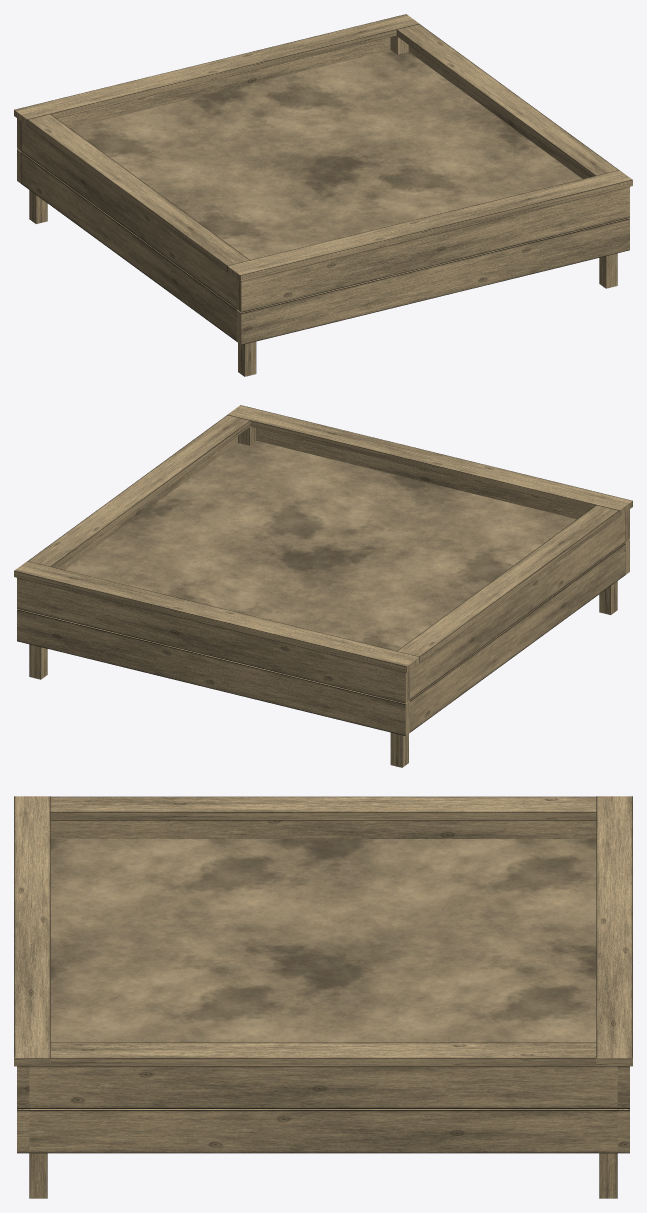
Rendered from playground_sandbox_lod1_web.glb.
3 views of the same model, one above another, from view 1: azimuth 30°, elevation 25°; view 2: azimuth 150°, elevation 25°; view 3: azimuth 270°, elevation 25° (orthographic). The views are drawn at different scales.
Parts seen in each view (by area): view 1: Sandbox_Mesh; view 2: Sandbox_Mesh; view 3: Sandbox_Mesh.
Boxes of the visible parts, x1,y1,x2,y2 form: Sandbox_Mesh: (14,14,632,376); Sandbox_Mesh: (14,405,632,767); Sandbox_Mesh: (14,796,632,1198).
Size of the model in its own units: 2.02 by 0.5301 by 2.02.
2 materials, 2 textured.
